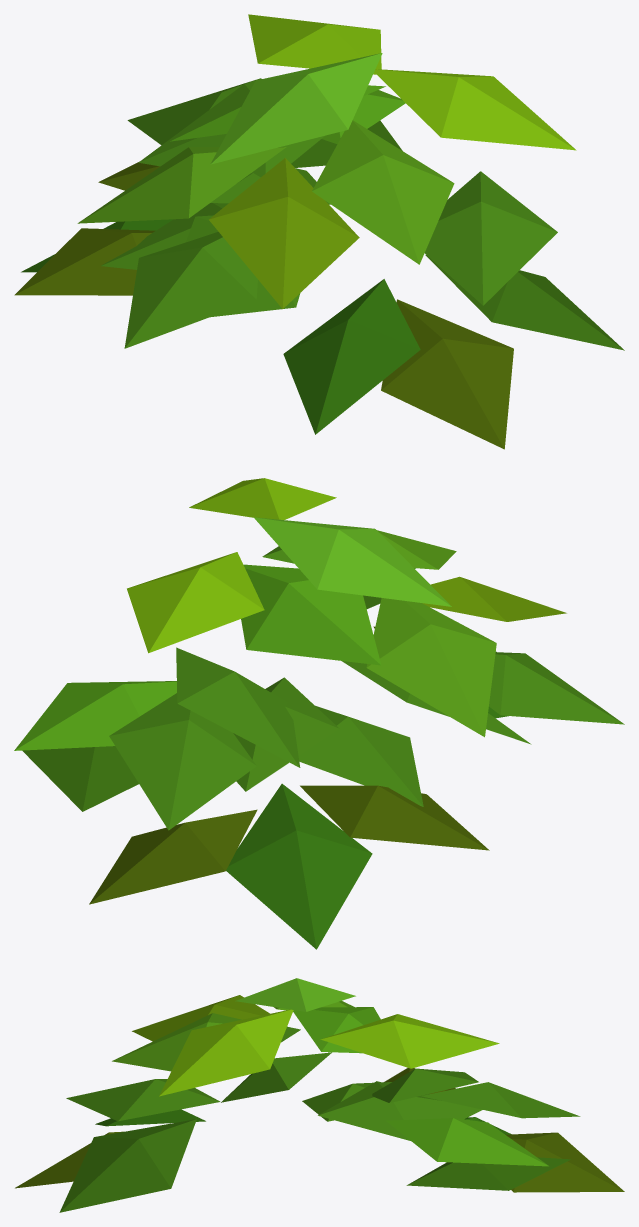
The model's file is um_flower010.FBX.
3 views of the same model, one above another, from view 1: azimuth 30°, elevation 25°; view 2: azimuth 150°, elevation 25°; view 3: azimuth 270°, elevation 25° (orthographic). The views are drawn at different scales.
Visible parts, largest first — view 1: um_flower010; view 2: um_flower010; view 3: um_flower010.
Part boxes in pixels (bbox=[...]): um_flower010: bbox=[14, 14, 624, 449]; um_flower010: bbox=[14, 478, 624, 949]; um_flower010: bbox=[15, 978, 624, 1212].
Bounding box in the file's own units: 0.7362 × 0.4599 × 1.13.
